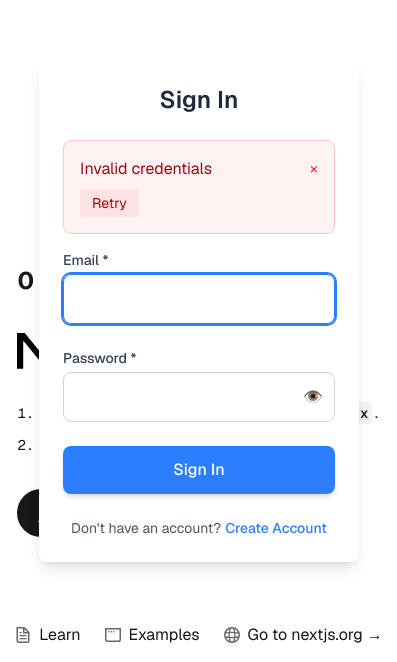
Test case: Home Page - End-to-End Sign-In Flow › should show password requirements
Type "Password123!" into the password field with test id "password-input" at (199, 397), box x1=63 y1=372 x2=335 y2=422
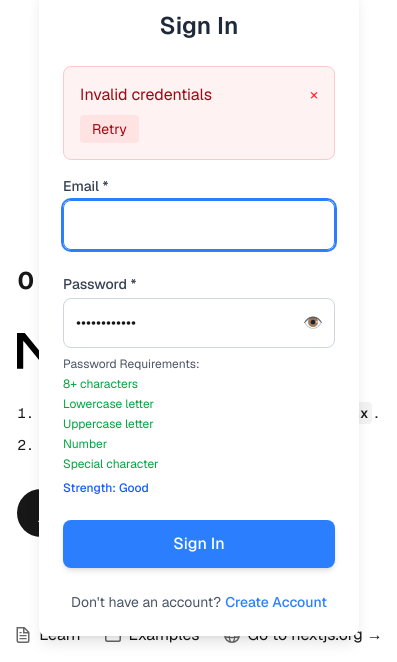
Now the text "Password Requirements:" is shown, box x1=63 y1=356 x2=200 y2=372
Now the list item "8+ characters" is shown, box x1=63 y1=376 x2=138 y2=392
